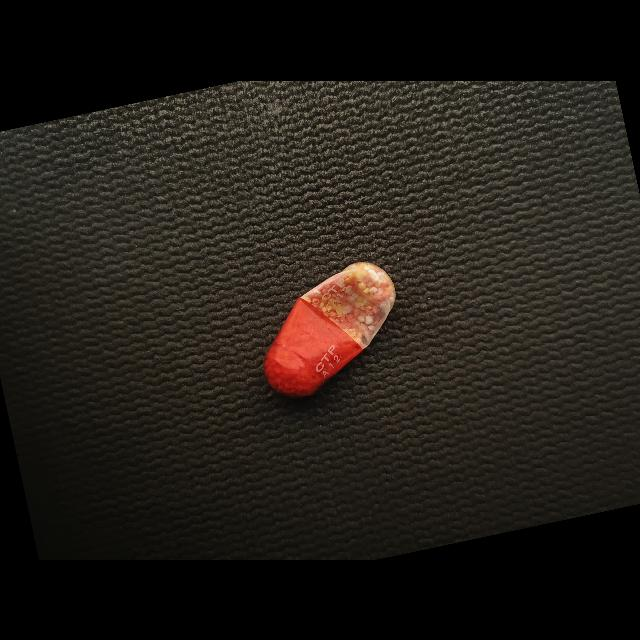Defective Capsule: (263, 261, 396, 397)
